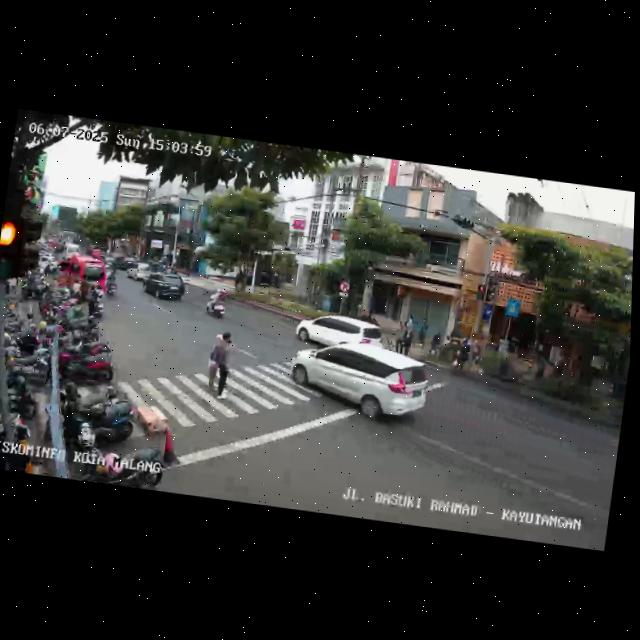car: (285, 335, 434, 434), (293, 307, 384, 353), (52, 251, 109, 301), (140, 269, 187, 304), (123, 258, 149, 281)
motorcycle: (203, 287, 231, 322), (86, 285, 107, 322), (102, 267, 121, 300)
person: (214, 331, 238, 402), (204, 330, 223, 391), (400, 324, 413, 357)
